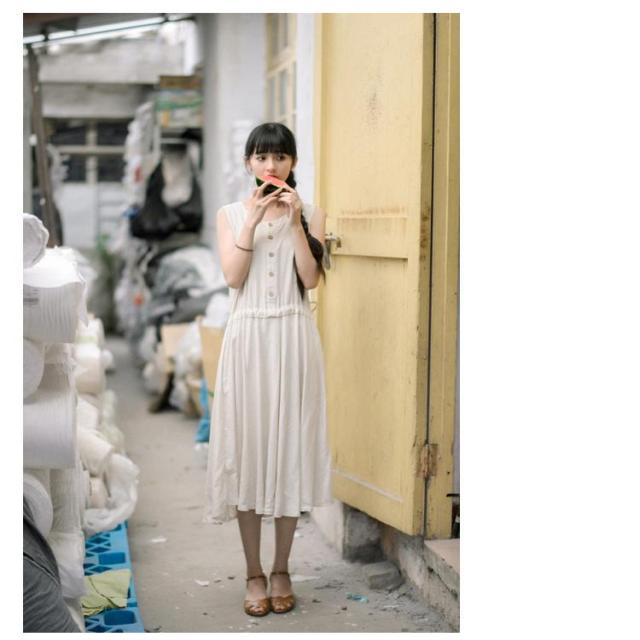vest dress: (207, 201, 335, 521)
